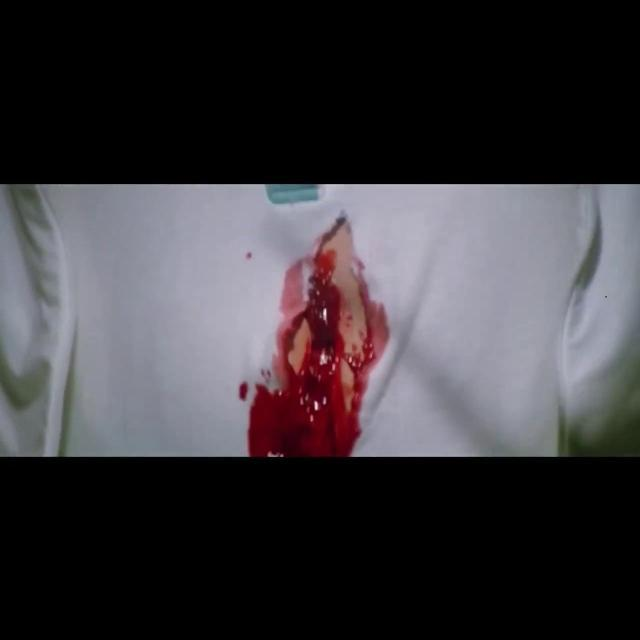blood: (248, 215, 389, 457)
